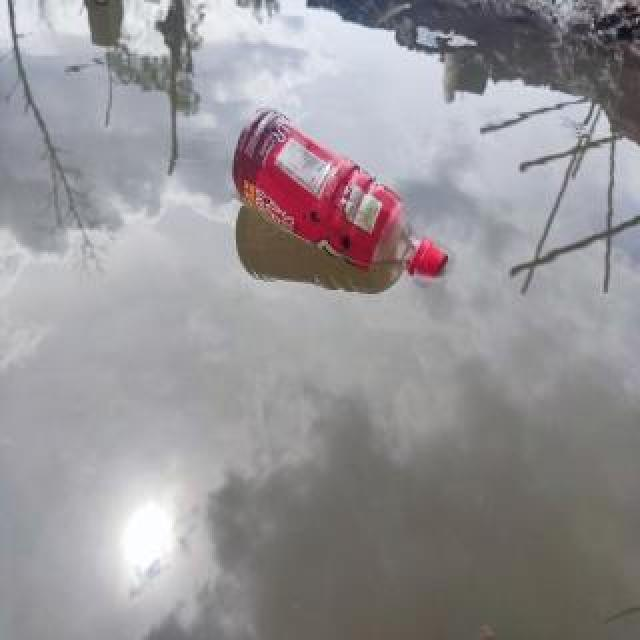bottle: (225, 102, 453, 290)
